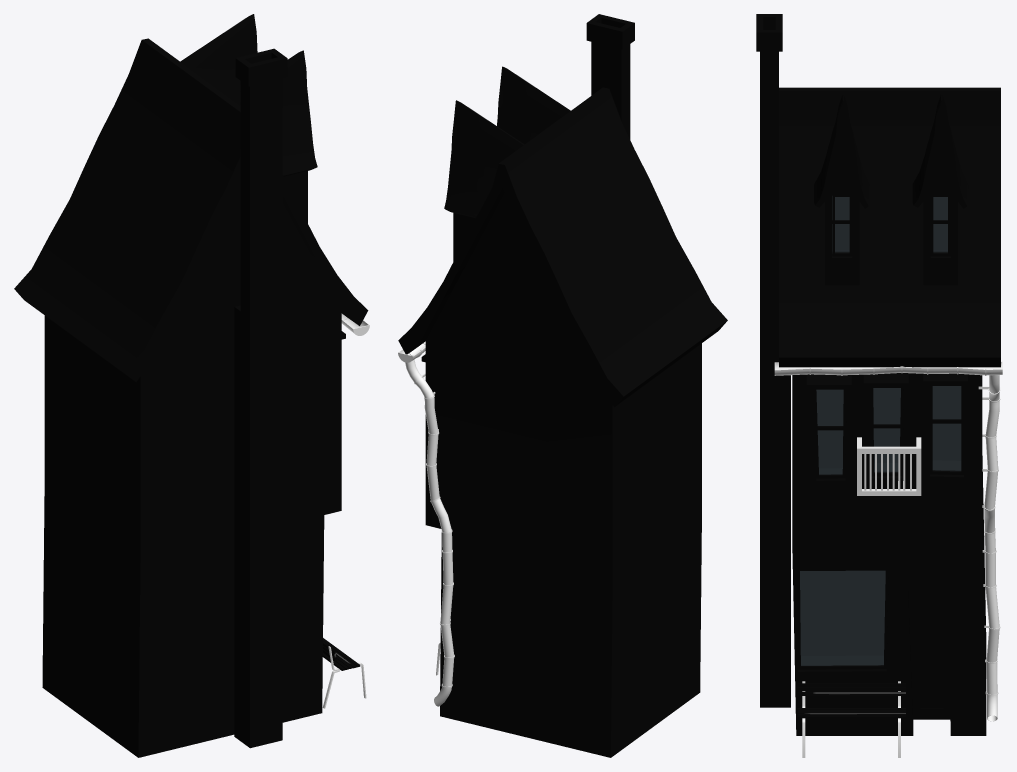
File: bina3.fbx
3 views of the same model, side by side, from view 1: azimuth 30°, elevation 25°; view 2: azimuth 150°, elevation 25°; view 3: azimuth 270°, elevation 25° (orthographic). The views are drawn at different scales.
Parts seen in each view (by area): view 1: Cube.001; view 2: Cube.001; view 3: Cube.001.
Part boxes in pixels (left/top/right/bottom): Cube.001: left=14, top=14, right=369, bottom=757; Cube.001: left=398, top=14, right=727, bottom=757; Cube.001: left=756, top=14, right=1002, bottom=757.
Size of the model in its own units: 1113 by 2879 by 950.
Materials: 11 (10 with a texture image).
